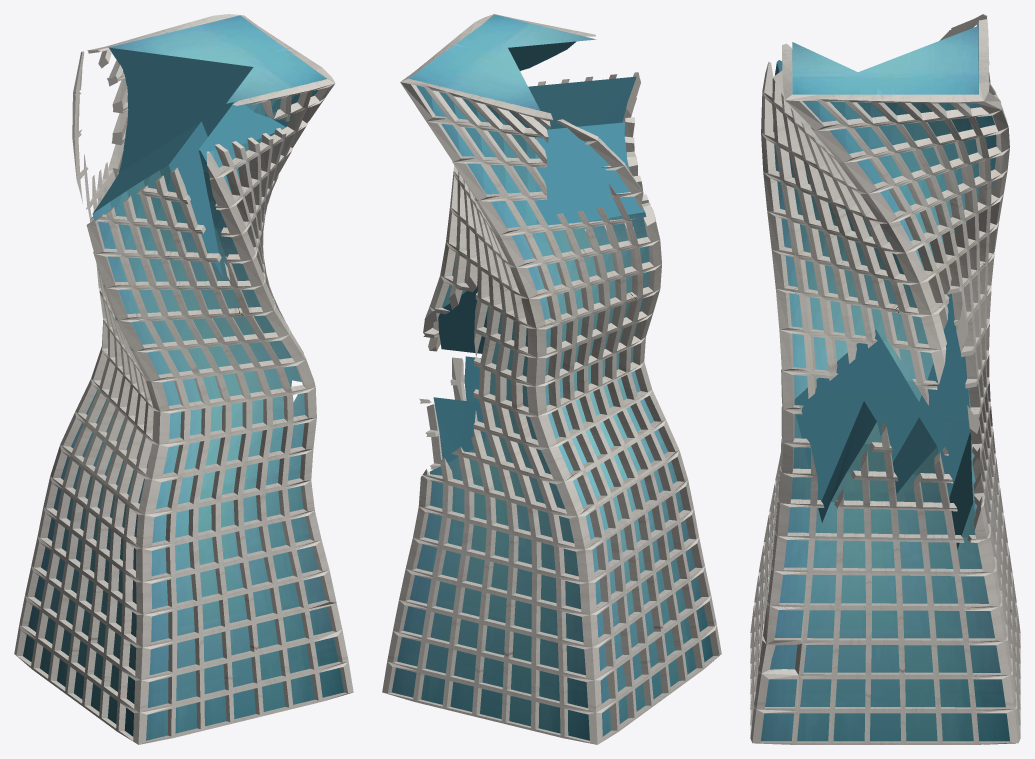
Rendered from Edificio Roto 2.FBX.
3 renders of one model, left to right at view 1: azimuth 30°, elevation 25°; view 2: azimuth 150°, elevation 25°; view 3: azimuth 270°, elevation 25°, orthographic. The views are drawn at different scales.
Visible parts, largest first — view 1: Box005, Box004; view 2: Box005, Box004; view 3: Box005, Box004.
Part boxes in pixels (x1,y1,x2,y2): Box005: (14,14,353,744); Box004: (23,15,343,740); Box005: (382,14,721,744); Box004: (391,15,712,740); Box005: (750,14,1020,744); Box004: (761,26,1009,741).
Bounding box in the file's own units: 1064 × 2808 × 1061.
